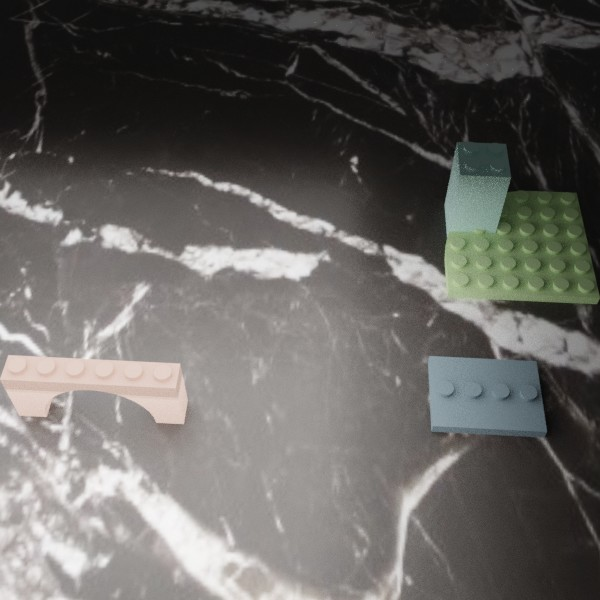lego: (444, 190, 599, 304), (0, 355, 187, 424), (427, 356, 547, 437), (444, 141, 511, 239)
